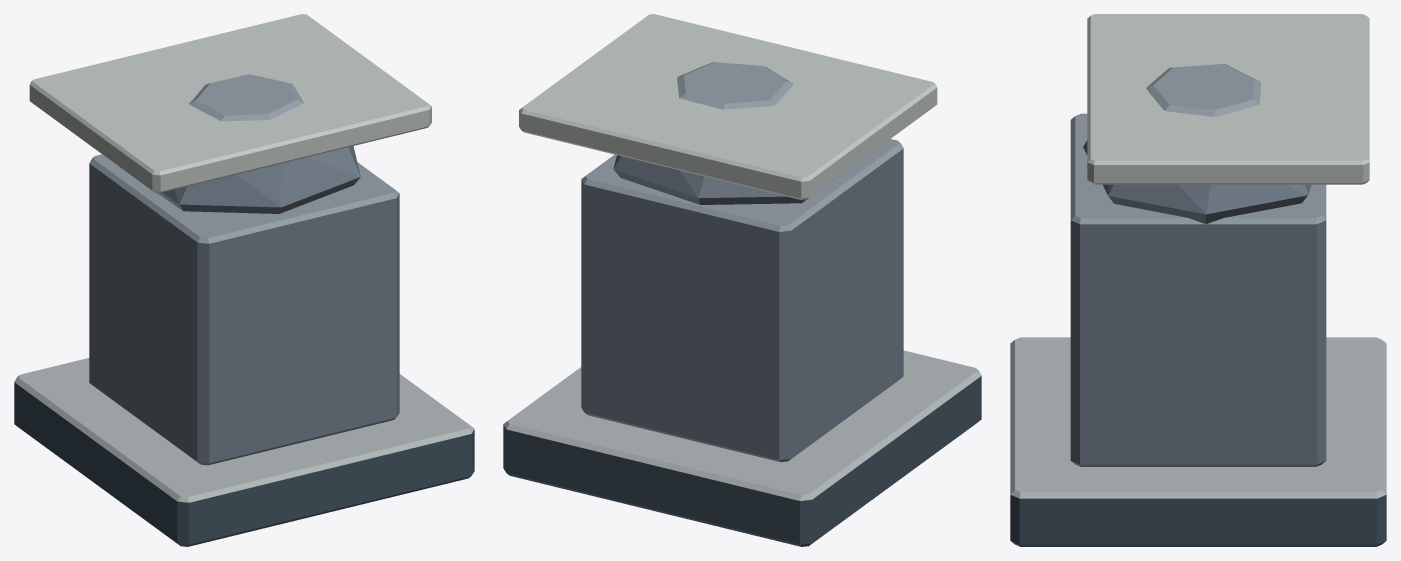
File: pillar-broken.glb
3 renders of one model, left to right at view 1: azimuth 30°, elevation 25°; view 2: azimuth 150°, elevation 25°; view 3: azimuth 270°, elevation 25°, orthographic. The views are drawn at different scales.
Parts seen in each view (by area): view 1: pillar-broken__body; view 2: pillar-broken__body; view 3: pillar-broken__body.
Boxes of the visible parts, <box> form: pillar-broken__body: <box>14,14,474,546</box>; pillar-broken__body: <box>503,14,981,546</box>; pillar-broken__body: <box>1010,14,1386,546</box>.
Size of the model in its own units: 1 by 1.13 by 1.
